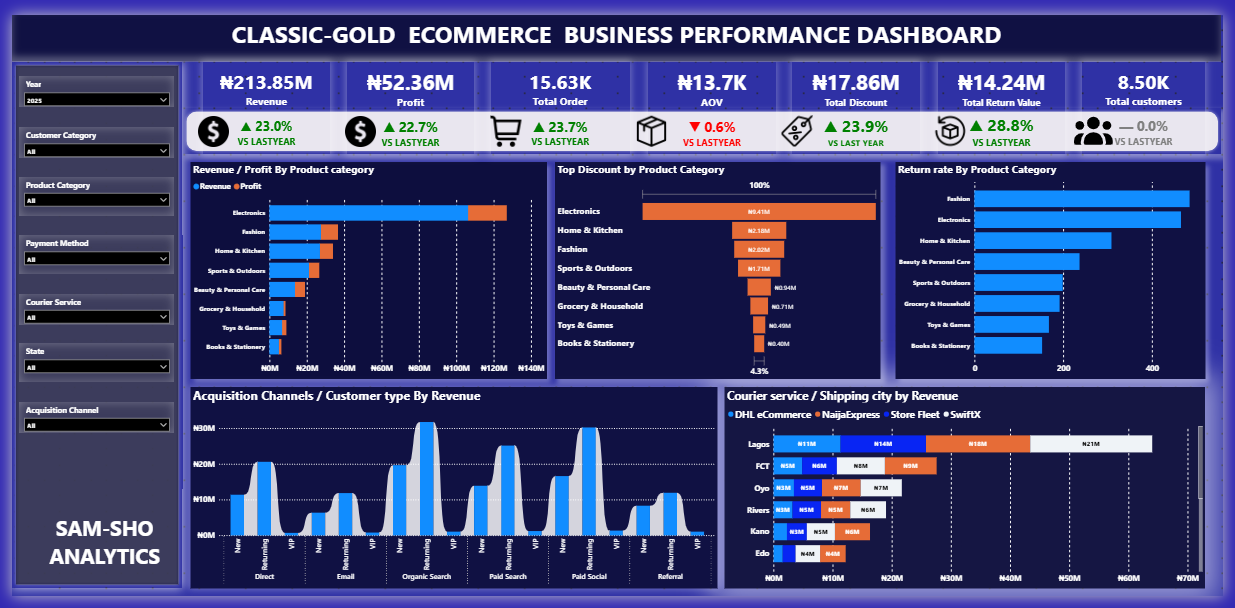

The dashboard page shown, as its layout file describes it:
{"tool":"powerbi","page":{"name":" EXECUTIVE OVERVIEW ","canvas":[2500,1200],"ordinal":0},"visuals":[{"type":"shape","box":[0,96,352,1088],"z":0},{"type":"shape","box":[352,192,2144,96],"z":1000},{"type":"cardVisual","fields":{"Data":["Factsales.AOV","Calendar.Aov_growth%indicator"]},"box":[1312,96,264,192],"z":2000},{"type":"barChart","title":"Courier service / Shipping city by Revenue","fields":{"Category":["shipments.shipping_zone"],"Y":["Factsales.Total Revenue"],"Series":["shipments.courier"]},"box":[1472,768,992,416],"z":3000},{"type":"textbox","box":[0,0,2496,96],"z":4000},{"type":"cardVisual","fields":{"Data":["Calendar.Total customers","Calendar.customergrowthIndicator"]},"box":[2208,96,256,192],"z":5000},{"type":"slicer","fields":{"Values":["Calendar.Year"]},"box":[16,128,320,64],"z":5000,"group":"g1"},{"type":"barChart","title":"Revenue / Profit By Product category","fields":{"Category":["products.category"],"Y":["Factsales.Total Revenue","Calendar.Total_Profit"]},"box":[368,304,736,448],"z":6000},{"type":"slicer","fields":{"Values":["products.category"]},"box":[16,336,320,80],"z":6000,"group":"g1"},{"type":"cardVisual","fields":{"Data":["Factsales.AOV","Factsales.Total_Discount","Calendar.Aov_growth%indicator"]},"box":[1408,384,256,192],"z":7000},{"type":"slicer","fields":{"Values":["customers.customer_segment"]},"box":[16,232,320,64],"z":8000,"group":"g1"},{"type":"funnel","title":"Top Discount by Product Category","fields":{"Category":["products.category"],"Y":["Factsales.Total_Discount"]},"box":[1120,304,672,448],"z":8000},{"type":"cardVisual","fields":{"Data":["Factsales.Total Revenue","Calendar.Revenue Growth Indicator"]},"box":[392,96,264,192],"z":9000},{"type":"slicer","fields":{"Values":["payments.payment_method"]},"box":[16,456,320,80],"z":9000,"group":"g1"},{"type":"barChart","title":"Return rate By Product Category","fields":{"Y":["returns.Total_Return"],"Category":["products.category"]},"box":[1824,304,640,448],"z":10000},{"type":"slicer","fields":{"Values":["shipments.courier"]},"box":[16,576,320,64],"z":10000,"group":"g1"},{"type":"cardVisual","fields":{"Data":["Factsales.Total Order","Calendar.Order_Growth_Indicator"]},"box":[989.3,96,288,192],"z":11000},{"type":"slicer","fields":{"Values":["customers.state"]},"box":[16,680,320,80],"z":11000,"group":"g1"},{"type":"ribbonChart","title":"Acquisition Channels /  Customer type By Revenue","fields":{"Category":["customers.acquisition_channel","customers.customer_segment"],"Y":["Factsales.Total Revenue"]},"box":[368,768,1088,416],"z":12000},{"type":"slicer","fields":{"Values":["customers.acquisition_channel"]},"box":[16,800,320,64],"z":12000,"group":"g1"},{"type":"textbox","box":[32,1024,320,128],"z":13000},{"type":"group","id":"g1","title":"Group 2","box":[16,128,320,736],"z":14000},{"type":"image","box":[986.7,192,64,96],"z":15000},{"type":"image","box":[1288,192,64,96],"z":16000},{"type":"cardVisual","fields":{"Data":["Factsales.Total_Discount","Factsales.Discount_GrowthIndicator"]},"box":[1610.7,96,264,192],"z":17000},{"type":"image","box":[2192,192,80,96],"z":18000},{"type":"cardVisual","fields":{"Data":["Calendar.Total_Profit","Calendar.Profitgrowth_Indicator"]},"box":[690.7,96,264,192],"z":19000},{"type":"image","box":[688,176,64,128],"z":20000},{"type":"image","box":[384,176,64,128],"z":21000},{"type":"cardVisual","fields":{"Data":["returns.Total_Return_Value","returns.Return_Growthindicator"]},"box":[1909.3,96,264,192],"z":22000},{"type":"image","box":[1589.3,208,64,64],"z":23000},{"type":"image","box":[1888,208,96,64],"z":24000}]}

Visuals, with their boxes in screenshot pixels (x1, y1, x2, y2), scaled from the page's 2500x1200 canvas onto the 1235x608 screenshot:
shape: [0,49,174,600]
shape: [174,97,1233,146]
cardVisual - Factsales.AOV x Calendar.Aov_growth%indicator: [648,49,779,146]
"Courier service / Shipping city by Revenue" barChart: [727,389,1217,600]
textbox: [0,0,1233,49]
cardVisual - Calendar.Total customers x Calendar.customergrowthIndicator: [1091,49,1217,146]
slicer - Calendar.Year: [8,65,166,97]
"Revenue / Profit By Product category" barChart: [182,154,545,381]
slicer - products.category: [8,170,166,211]
cardVisual - Factsales.AOV x Factsales.Total_Discount: [696,195,822,292]
slicer - customers.customer_segment: [8,118,166,150]
"Top Discount by Product Category" funnel: [553,154,885,381]
cardVisual - Factsales.Total Revenue x Calendar.Revenue Growth Indicator: [194,49,324,146]
slicer - payments.payment_method: [8,231,166,272]
"Return rate By Product Category" barChart: [901,154,1217,381]
slicer - shipments.courier: [8,292,166,324]
cardVisual - Factsales.Total Order x Calendar.Order_Growth_Indicator: [489,49,631,146]
slicer - customers.state: [8,345,166,385]
"Acquisition Channels /  Customer type By Revenue" ribbonChart: [182,389,719,600]
slicer - customers.acquisition_channel: [8,405,166,438]
textbox: [16,519,174,584]
"Group 2" group: [8,65,166,438]
image: [487,97,519,146]
image: [636,97,668,146]
cardVisual - Factsales.Total_Discount x Factsales.Discount_GrowthIndicator: [796,49,926,146]
image: [1083,97,1122,146]
cardVisual - Calendar.Total_Profit x Calendar.Profitgrowth_Indicator: [341,49,472,146]
image: [340,89,371,154]
image: [190,89,221,154]
cardVisual - returns.Total_Return_Value x returns.Return_Growthindicator: [943,49,1074,146]
image: [785,105,817,138]
image: [933,105,980,138]
